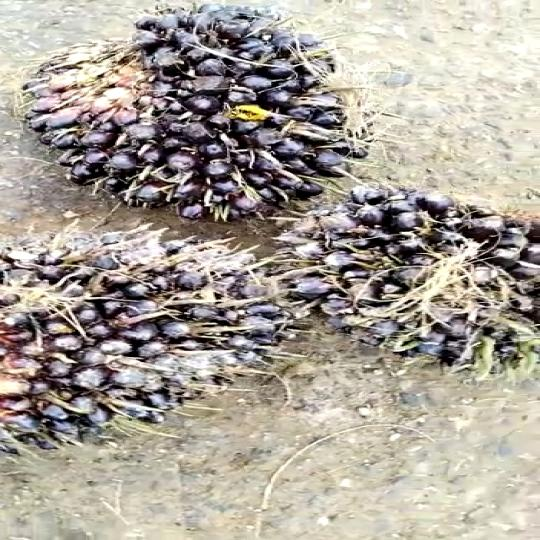mentah: (16, 0, 373, 230), (0, 230, 301, 469), (252, 170, 540, 396)
